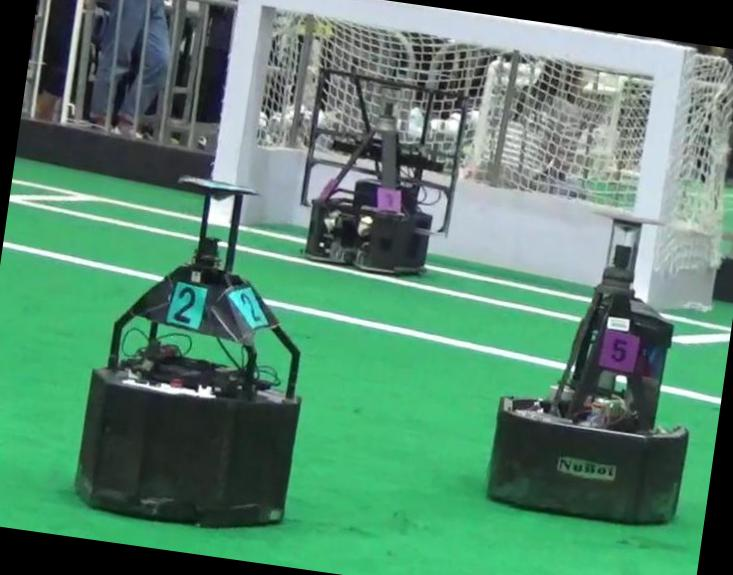goal: (630, 41, 690, 300), (212, 0, 261, 182)
robot: (75, 176, 301, 526), (487, 215, 688, 523), (300, 68, 468, 273)
